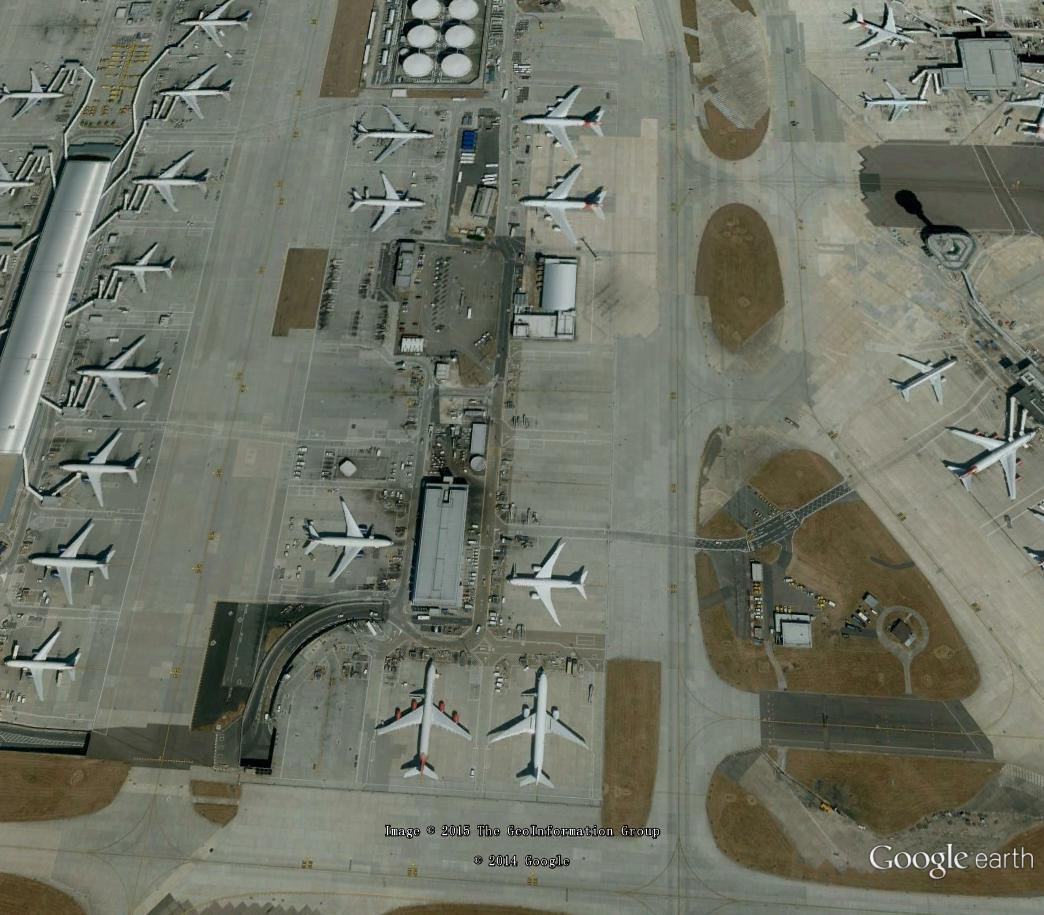aircraft: (489, 664, 598, 790), (372, 660, 472, 781), (301, 493, 403, 588), (504, 537, 594, 631), (28, 520, 120, 609), (942, 421, 1039, 505), (517, 165, 609, 250), (54, 427, 147, 511), (75, 333, 166, 417), (519, 84, 607, 159), (126, 145, 213, 217), (4, 630, 82, 709), (345, 168, 429, 237), (351, 103, 441, 165), (157, 63, 235, 126), (883, 349, 961, 409), (106, 243, 181, 300), (175, 0, 252, 51), (840, 4, 921, 52), (3, 66, 67, 124), (858, 79, 934, 126)
